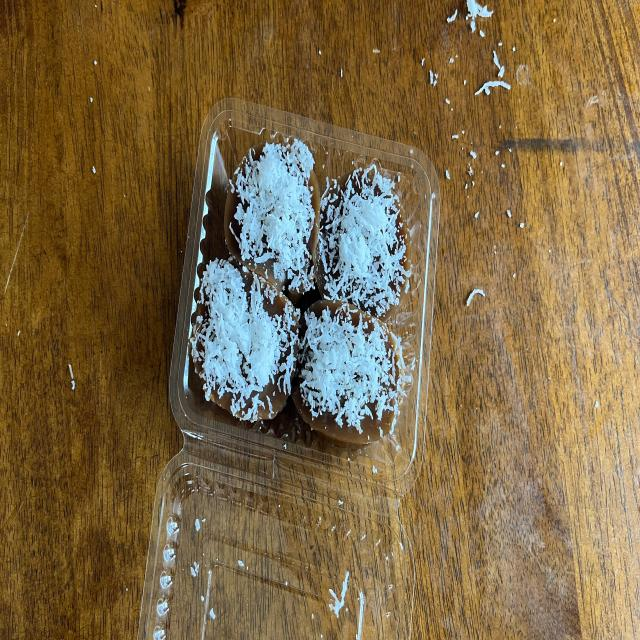Kuih lompang: (190, 258, 299, 422), (292, 300, 410, 444), (224, 140, 320, 302), (318, 164, 410, 318)
